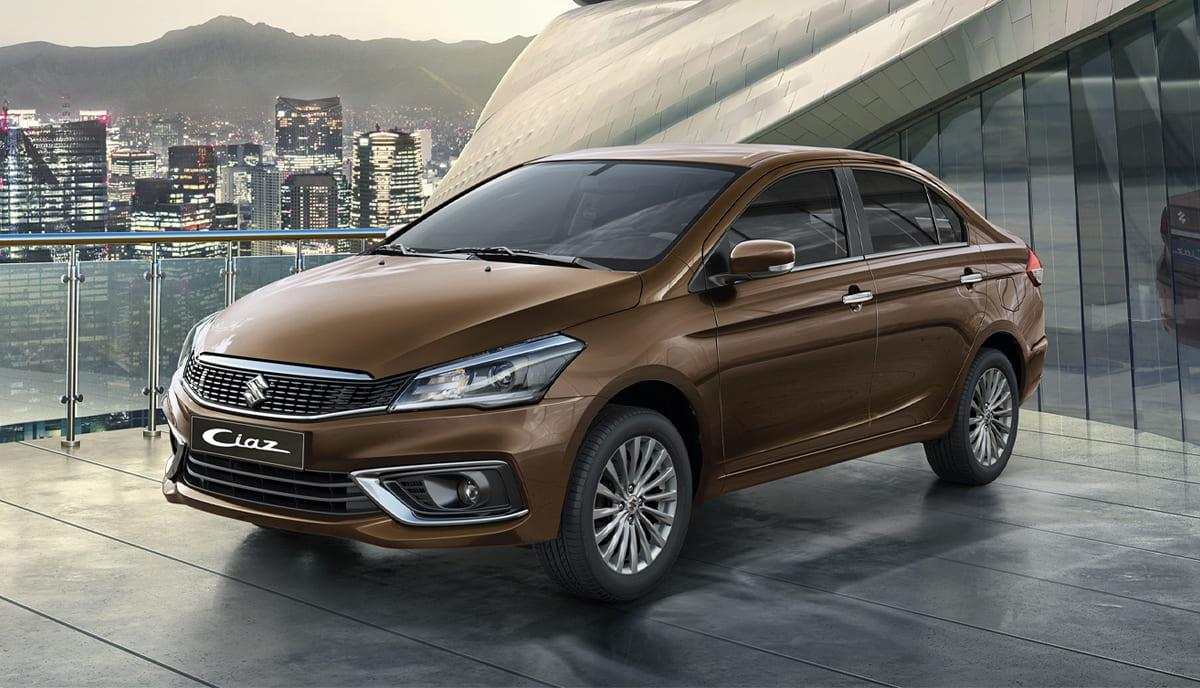suzuki: (236, 366, 277, 412)
